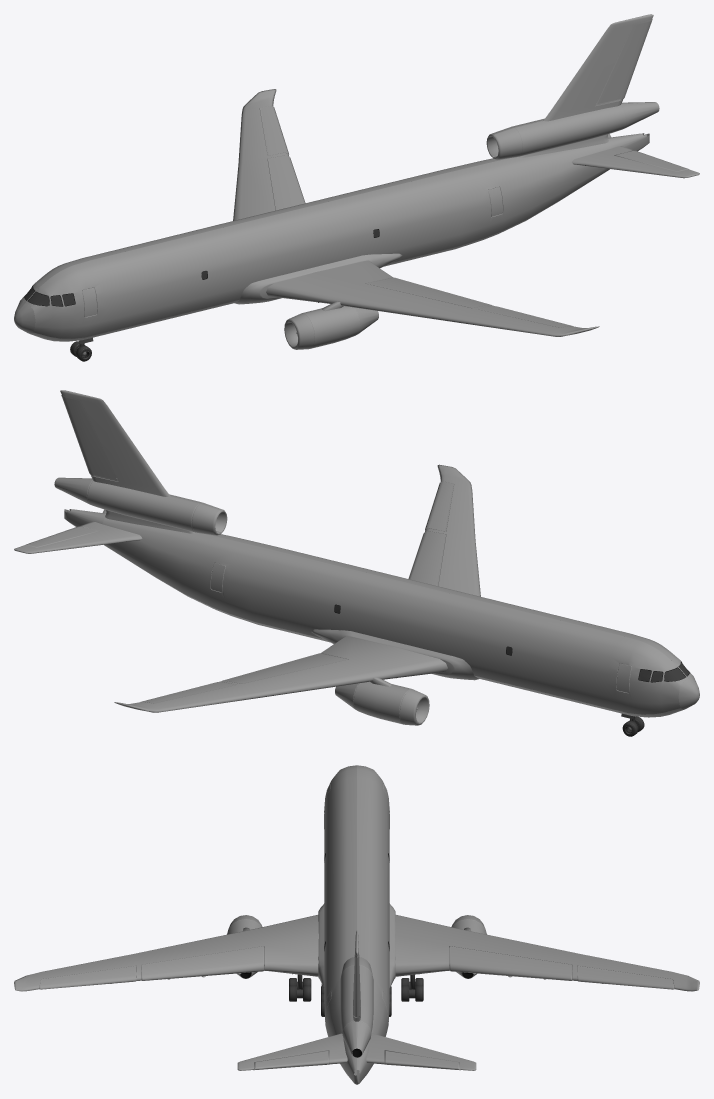
File: airplane_b.FBX
3 renders of one model, top to bottom at view 1: azimuth 30°, elevation 25°; view 2: azimuth 150°, elevation 25°; view 3: azimuth 270°, elevation 25°, orthographic. The views are drawn at different scales.
Visible parts, largest first — view 1: Object001; view 2: Object001; view 3: Object001.
Boxes of the visible parts, x1,y1,x2,y2 form: Object001: [14, 14, 699, 361]; Object001: [14, 390, 699, 736]; Object001: [14, 765, 699, 1084].
Bounding box in the file's own units: 44.77 × 13.66 × 39.27.
